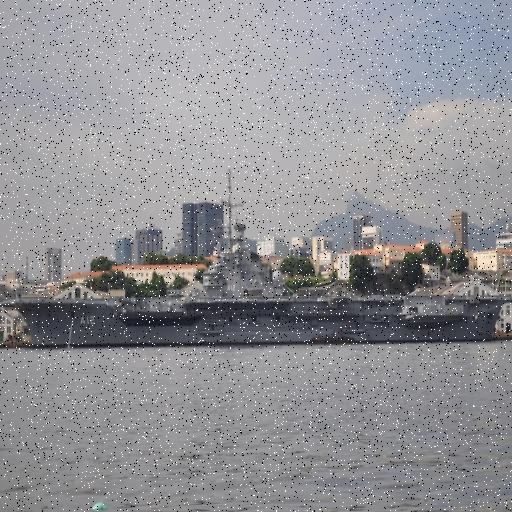Portanaves: (1, 159, 512, 352)
